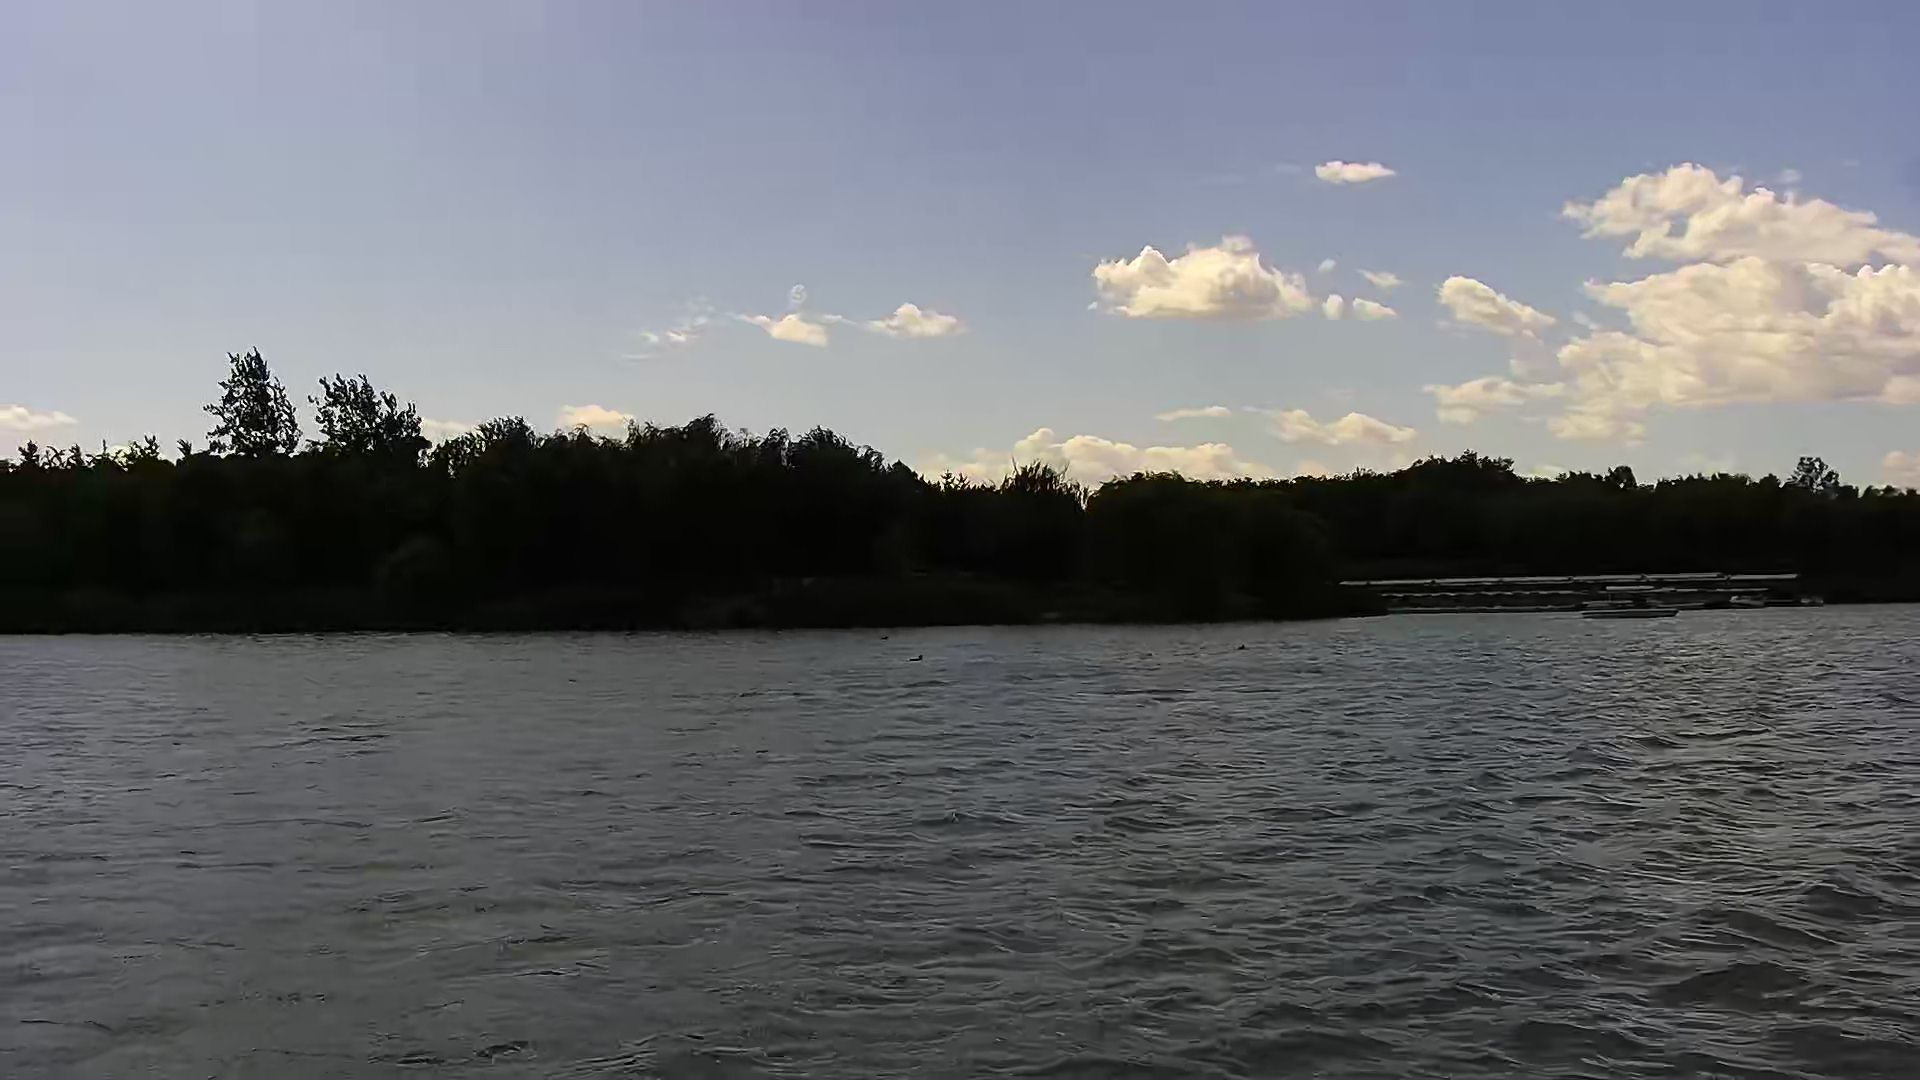boat: (1581, 576, 1679, 626)
harbor: (1358, 570, 1807, 613)
